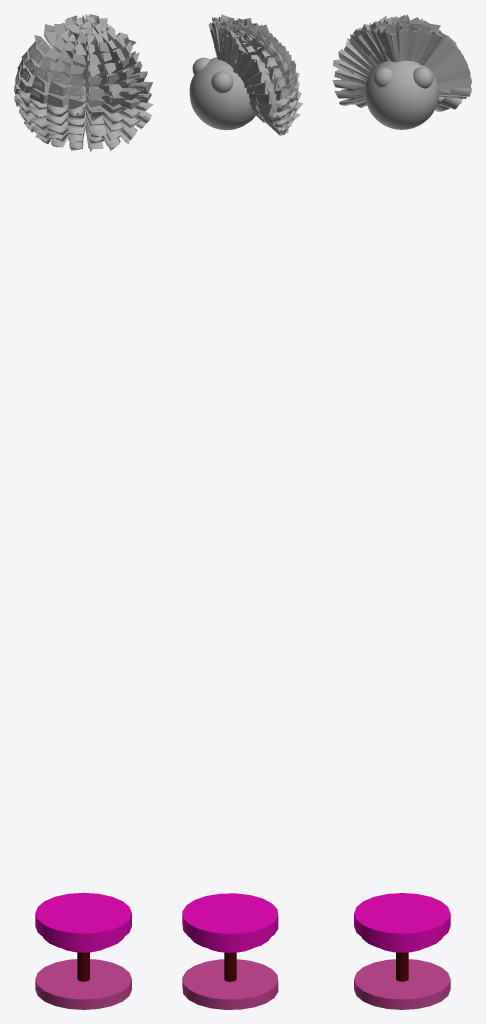
Rendered from ClientGPX.fbx.
3 renders of one model, left to right at view 1: azimuth 90°, elevation 25°; view 2: azimuth 210°, elevation 25°; view 3: azimuth 270°, elevation 25°, orthographic.
Parts seen in each view (by area): view 1: Normal_Hair, Cylinder, Original_hair, Base, bar, Cylinder__1_; view 2: Normal_Hair, Cylinder, Base, Face, Original_hair, Eye_R, bar, Cut_Hair, Cylinder__1_; view 3: Normal_Hair, Cylinder, Base, Face, Original_hair, Cut_Hair, bar, Eye_R, Cylinder__1_.
Boxes of the visible parts, x1,y1,x2,y2 form: Normal_Hair: [15, 14, 153, 151]; Cylinder: [35, 892, 131, 946]; Original_hair: [14, 19, 148, 148]; Base: [35, 959, 131, 1009]; bar: [77, 952, 89, 981]; Cylinder__1_: [43, 937, 123, 950]; Normal_Hair: [208, 14, 302, 135]; Cylinder: [182, 893, 278, 946]; Base: [182, 959, 278, 1009]; Face: [189, 57, 255, 130]; Original_hair: [210, 23, 297, 134]; Eye_R: [211, 71, 233, 93]; bar: [224, 952, 236, 981]; Cut_Hair: [214, 43, 264, 122]; Cylinder__1_: [190, 937, 270, 951]; Normal_Hair: [332, 14, 470, 111]; Cylinder: [354, 893, 450, 946]; Base: [354, 959, 450, 1009]; Face: [364, 60, 439, 129]; Original_hair: [337, 22, 471, 105]; Cut_Hair: [354, 46, 449, 104]; bar: [396, 952, 408, 981]; Eye_R: [413, 67, 433, 88]; Cylinder__1_: [362, 937, 442, 950].
Bounding box in the file's own units: 127 × 1108 × 145.
